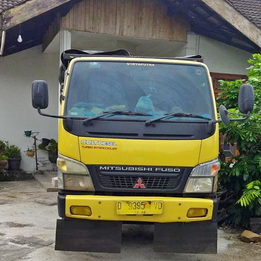plate: (116, 201, 164, 216)
